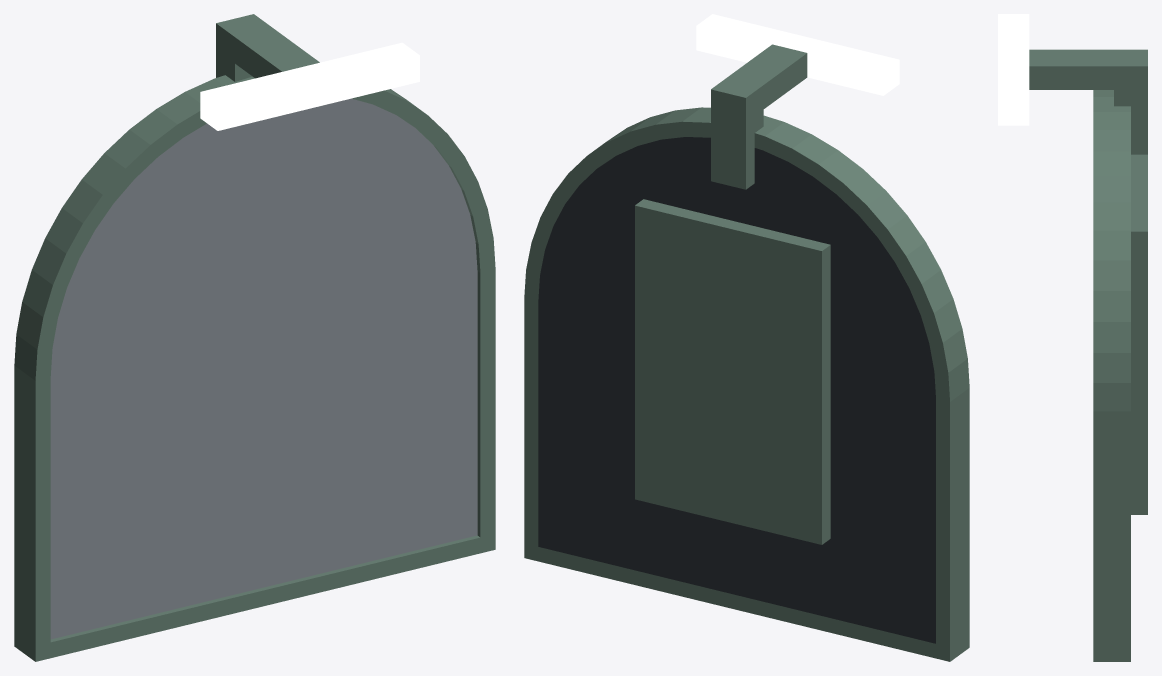
The picture shows the model from 3 angles, left to right: view 1: azimuth 30°, elevation 25°; view 2: azimuth 150°, elevation 25°; view 3: azimuth 270°, elevation 25°; orthographic projection. The views are drawn at different scales.
Visible parts, largest first — view 1: makeup-face-center, makeup-frame-center, makeup-lamp, makeup-lamp-arm; view 2: makeup-back-center, makeup-wall-mount, makeup-frame-center, makeup-lamp, makeup-lamp-arm, makeup-lamp-riser; view 3: makeup-frame-center, makeup-wall-mount, makeup-lamp-arm, makeup-lamp, makeup-lamp-riser.
Part boxes in pixels (left/top/right/bottom): makeup-face-center: left=50, top=98, right=477, bottom=639; makeup-frame-center: left=14, top=75, right=495, bottom=661; makeup-lamp: left=200, top=42, right=419, bottom=130; makeup-lamp-arm: left=216, top=14, right=319, bottom=78; makeup-back-center: left=538, top=137, right=935, bottom=643; makeup-wall-mount: left=635, top=199, right=830, bottom=544; makeup-frame-center: left=524, top=107, right=969, bottom=661; makeup-lamp: left=696, top=14, right=899, bottom=95; makeup-lamp-arm: left=711, top=44, right=807, bottom=122; makeup-lamp-riser: left=711, top=110, right=763, bottom=189; makeup-frame-center: left=1093, top=90, right=1130, bottom=661; makeup-wall-mount: left=1131, top=154, right=1147, bottom=514; makeup-lamp-arm: left=1029, top=49, right=1147, bottom=89; makeup-lamp: left=998, top=14, right=1029, bottom=125; makeup-lamp-riser: left=1114, top=90, right=1147, bottom=154.
Size of the model in its own units: 0.364 by 0.427 by 0.115.
